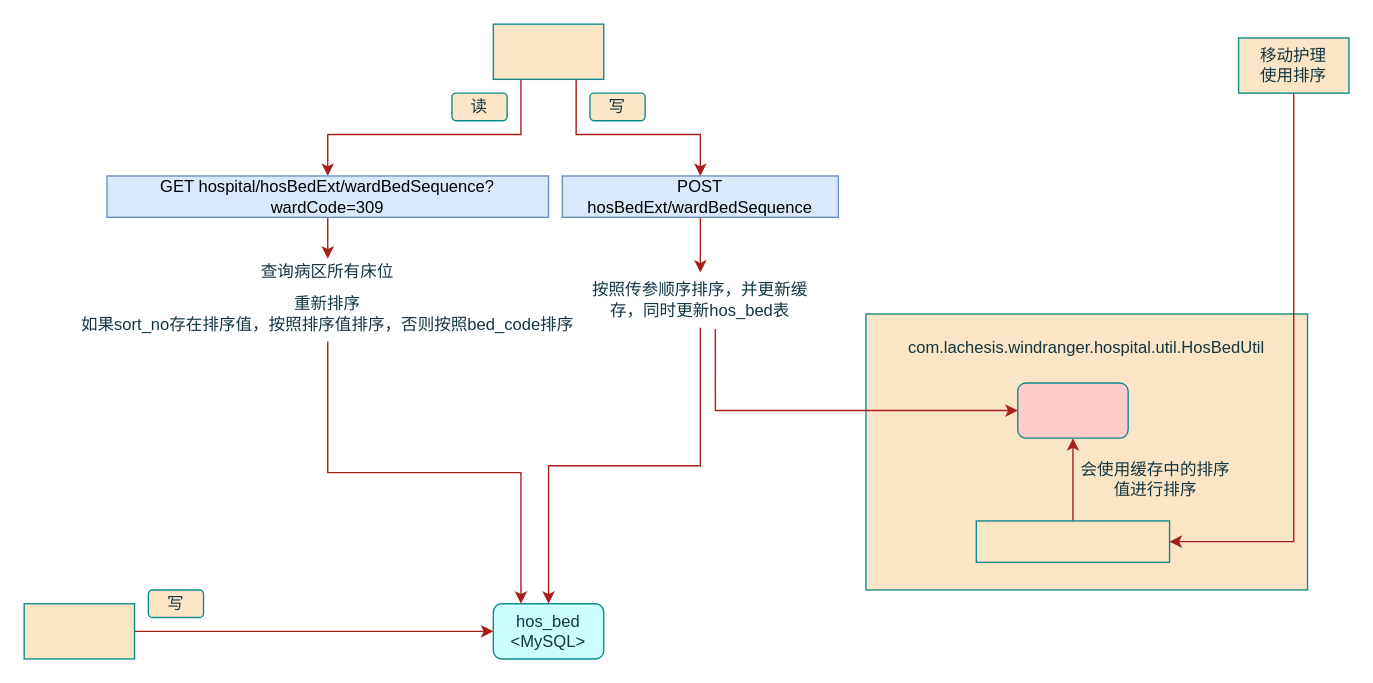
The diagram is 1373 pixels wide and 683 high, and some of its shapes have lost their labels. The centre of each missing label's shape, as x and y in pixels:
initComparator方法: (1072,541)
wardBedSort <Redis>: (1072,410)
同步程序: (79,630)
移动护理 床位列表: (548,51)
